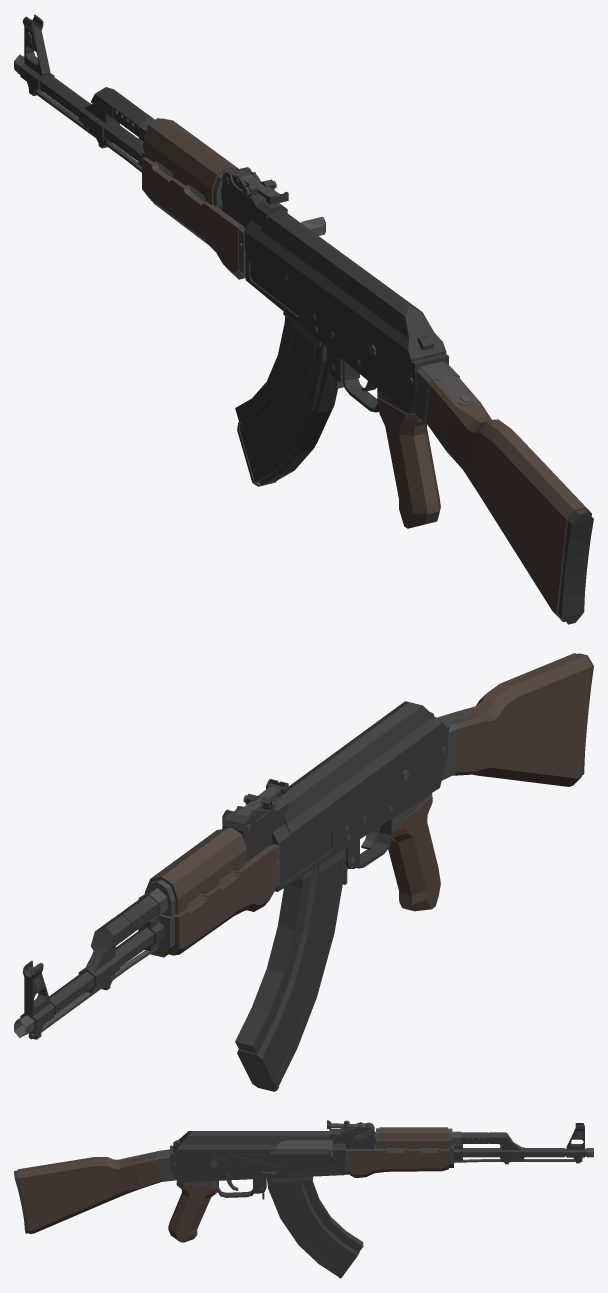
The picture shows the model from 3 angles, top to bottom: view 1: azimuth 30°, elevation 25°; view 2: azimuth 150°, elevation 25°; view 3: azimuth 270°, elevation 25°; orthographic projection. The views are drawn at different scales.
Parts seen in each view (by area): view 1: Cube.015_5, Cube.015_10, Cube.015_0; view 2: Cube.015_5, Cube.015_10, Cube.015_0, Cube.015_8; view 3: Cube.015_5, Cube.015_10, Cube.015_0, Cube.015_6.
Part boxes in pixels (bbox=[...]): Cube.015_5: bbox=[20, 14, 593, 624]; Cube.015_10: bbox=[142, 118, 591, 622]; Cube.015_0: bbox=[25, 19, 472, 424]; Cube.015_5: bbox=[20, 653, 593, 1091]; Cube.015_10: bbox=[145, 653, 591, 955]; Cube.015_0: bbox=[28, 712, 472, 1039]; Cube.015_8: bbox=[14, 746, 446, 1037]; Cube.015_5: bbox=[14, 1120, 585, 1278]; Cube.015_10: bbox=[17, 1127, 448, 1242]; Cube.015_0: bbox=[131, 1123, 582, 1199]; Cube.015_6: bbox=[134, 1137, 485, 1162].
Size of the model in its own units: 0.0727 by 0.2927 by 1.
